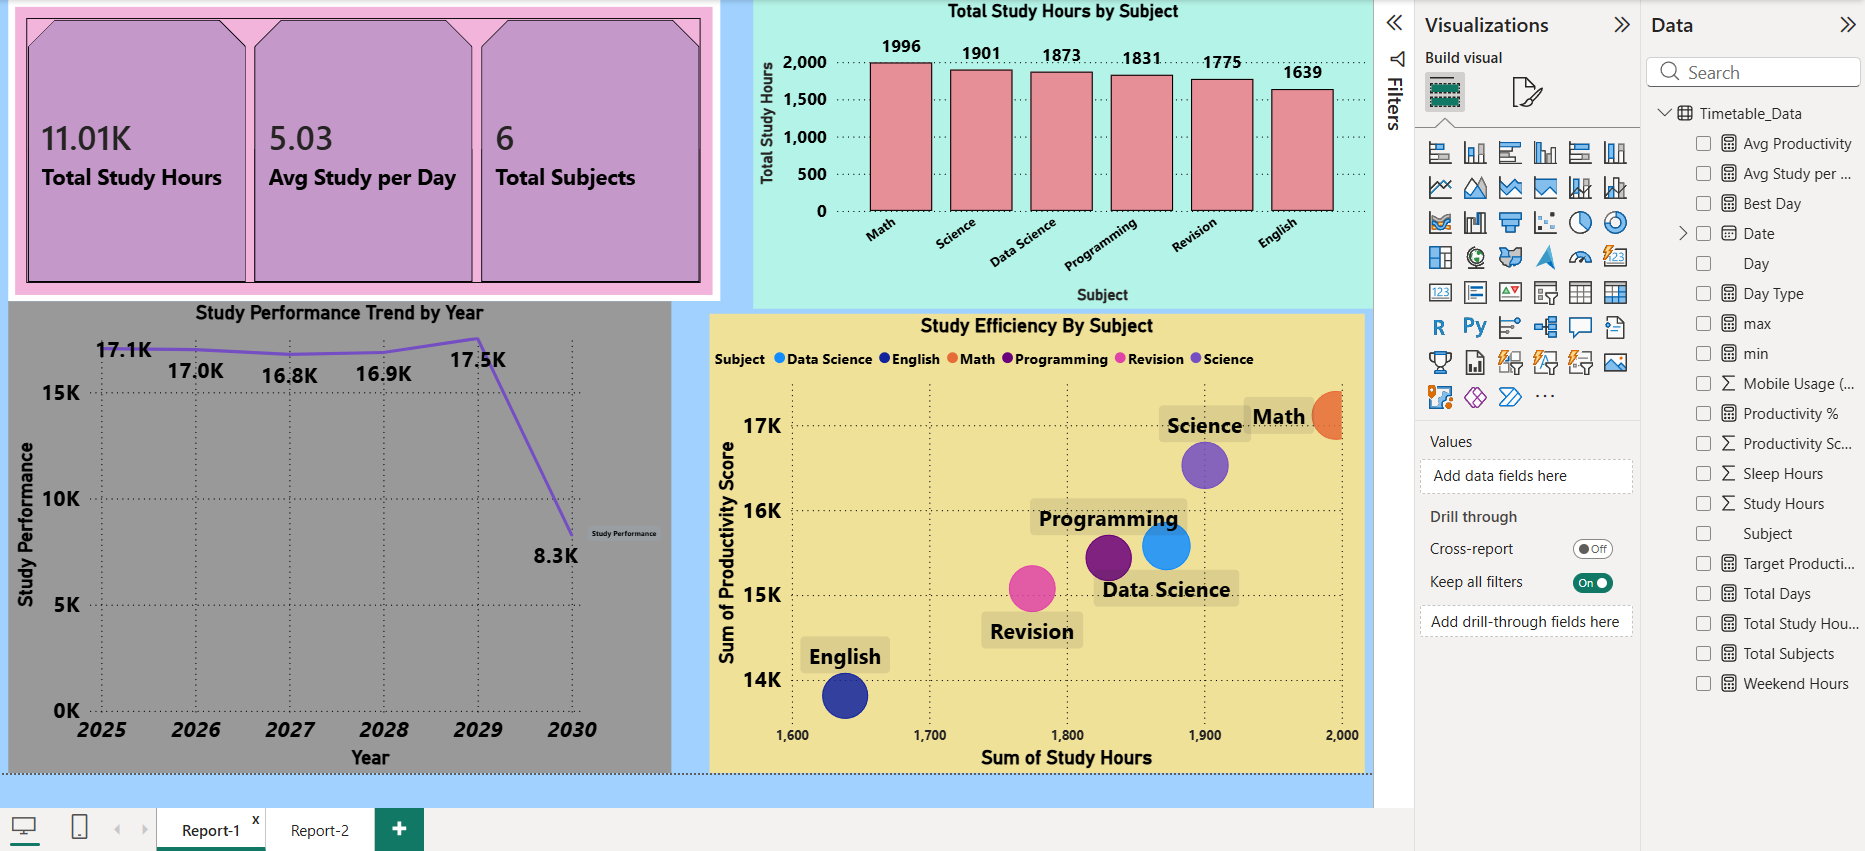

The dashboard page shown, as its layout file describes it:
{"tool":"powerbi","page":{"name":"Report-1","canvas":[1280,720],"ordinal":0},"visuals":[{"type":"cardVisual","fields":{"Data":["Timetable_Data.Total Study Hours","Timetable_Data.Avg Study per Day","Timetable_Data.Total Subjects"]},"box":[10.5,0,662.8,280.2],"z":0},{"type":"lineChart","title":"Study Performance Trend by Year ","fields":{"Category":["Timetable_Data.Date.Variation.Date Hierarchy.Year","Timetable_Data.Date.Variation.Date Hierarchy.Quarter","Timetable_Data.Date.Variation.Date Hierarchy.Month","Timetable_Data.Date.Variation.Date Hierarchy.Day"],"Y":["Sum(Timetable_Data.Productivity Score)"]},"box":[10,280,616.7,440],"z":1000},{"type":"clusteredColumnChart","fields":{"Category":["Timetable_Data.Subject"],"Y":["Timetable_Data.Total Study Hours"]},"box":[703.5,0,576.7,287.2],"z":2000},{"type":"scatterChart","title":"Study Efficiency By Subject","fields":{"Series":["Timetable_Data.Subject"],"Y":["Sum(Timetable_Data.Productivity Score)"],"X":["Sum(Timetable_Data.Study Hours)"],"Size":["CountNonNull(Timetable_Data.Subject)"]},"box":[662.8,291.9,609.3,427.9],"z":3000}]}

Visuals, with their boxes on the page's 1280x720 design canvas (x1, y1, x2, y2). These are canvas units, not pixel positions in the 1865x851 screenshot, which may show the page scaled, cropped or inside an application window:
cardVisual - Timetable_Data.Total Study Hours x Timetable_Data.Avg Study per Day: BBox(10, 0, 673, 280)
"Study Performance Trend by Year " lineChart: BBox(10, 280, 627, 720)
clusteredColumnChart - Timetable_Data.Subject x Timetable_Data.Total Study Hours: BBox(704, 0, 1280, 287)
"Study Efficiency By Subject" scatterChart: BBox(663, 292, 1272, 720)
